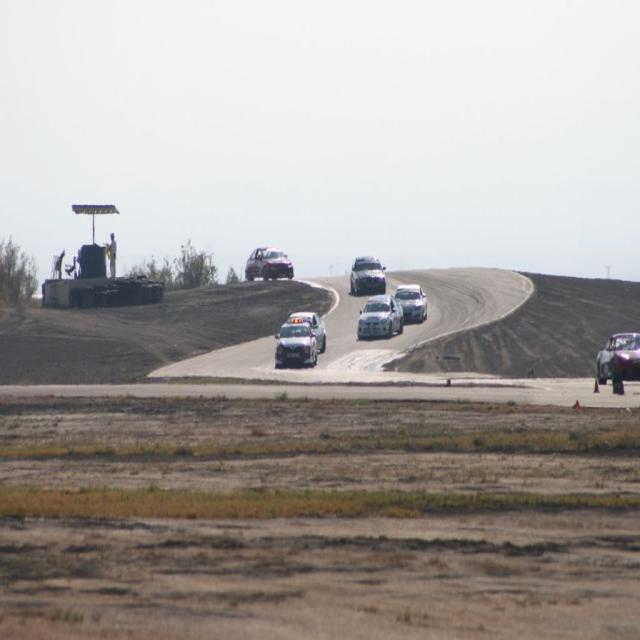car: (274, 316, 314, 371), (356, 293, 403, 334), (242, 247, 295, 283), (348, 251, 385, 292)
